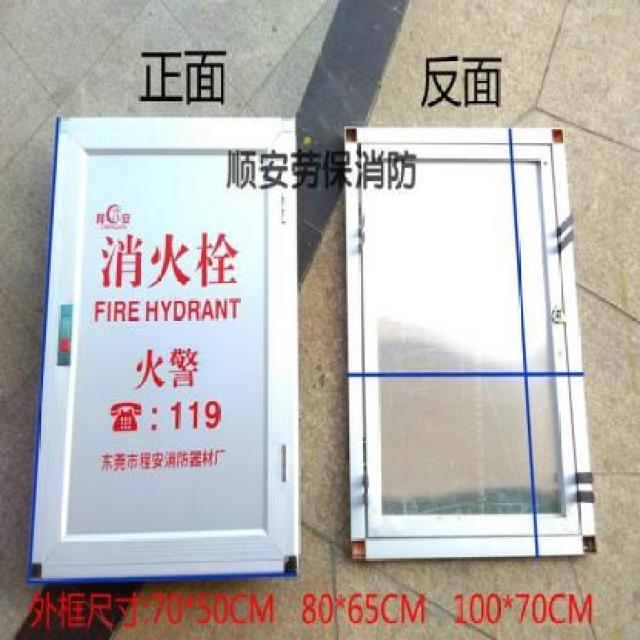firehydrant: (21, 111, 302, 586)
